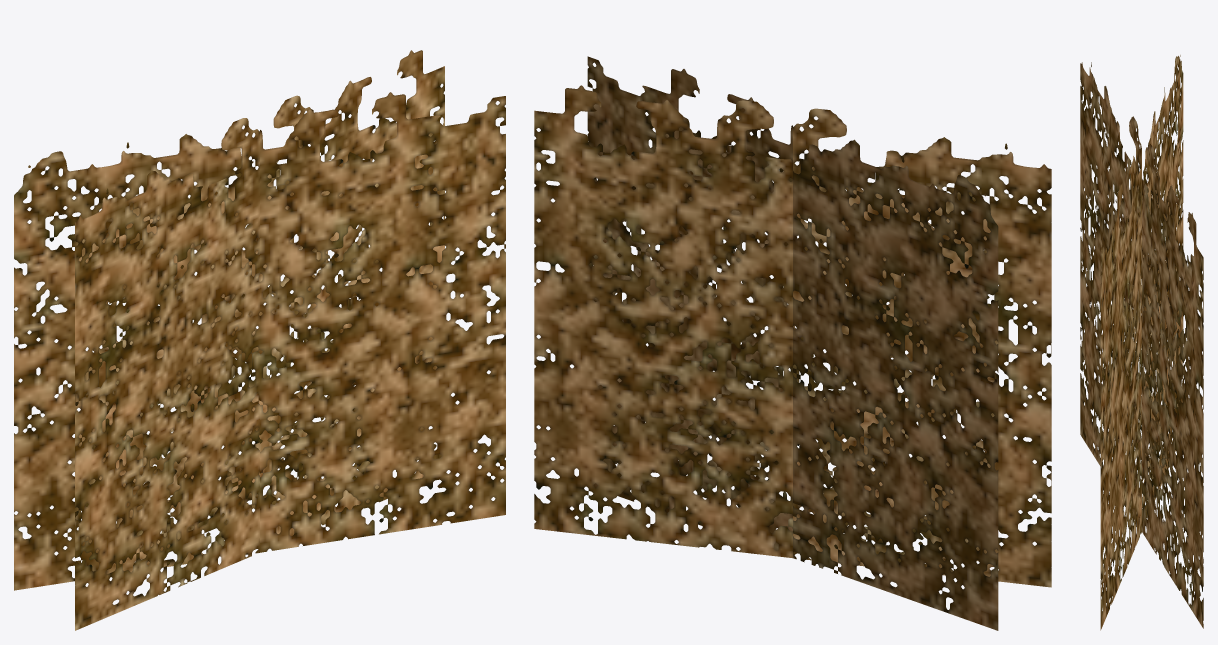
Rendered from bush_tall_overgrown_autumn.fbx.
3 views of the same model, side by side, from view 1: azimuth 30°, elevation 25°; view 2: azimuth 150°, elevation 25°; view 3: azimuth 270°, elevation 25° (orthographic). The views are drawn at different scales.
Parts seen in each view (by area): view 1: bush_tall_overgrown_autumn; view 2: bush_tall_overgrown_autumn; view 3: bush_tall_overgrown_autumn.
Part boxes in pixels (box(x1,y1,x2,y2)): bush_tall_overgrown_autumn: box(14, 50, 505, 630); bush_tall_overgrown_autumn: box(534, 56, 1051, 630); bush_tall_overgrown_autumn: box(1080, 55, 1203, 630).
Size of the model in its own units: 209 by 206 by 54.93.
Materials: 1 (1 with a texture image).
